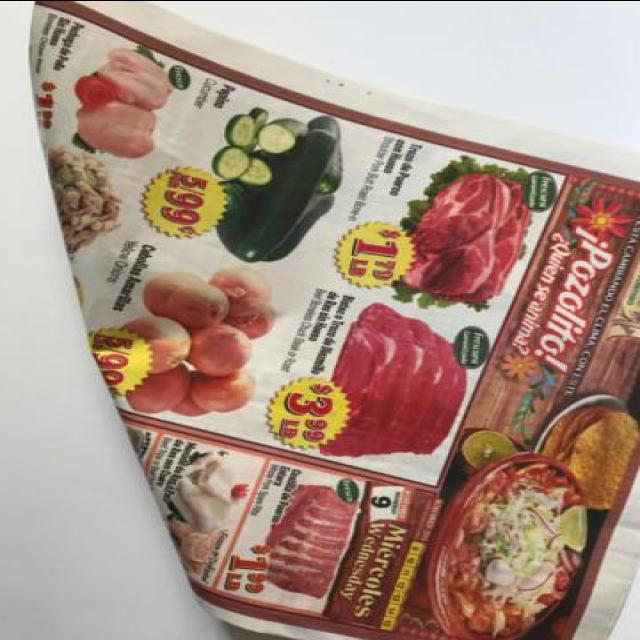kertas: (33, 0, 640, 640)
